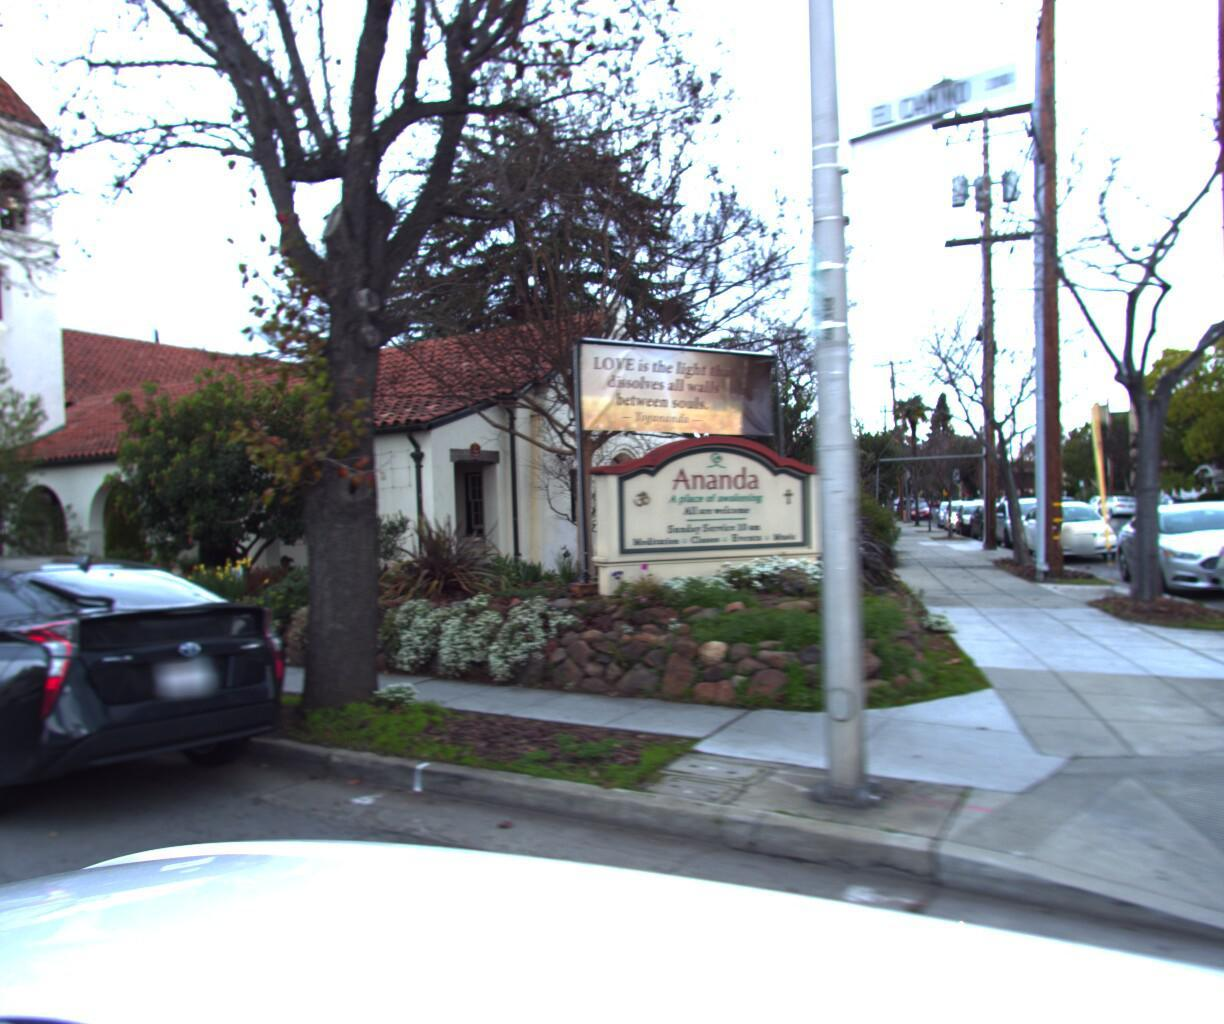car: (0, 544, 322, 883), (1104, 490, 1224, 605), (1009, 495, 1133, 565), (984, 491, 1080, 552), (1197, 484, 1224, 672), (968, 496, 1039, 540), (1142, 490, 1207, 520), (954, 498, 1007, 534), (947, 495, 988, 530), (1095, 492, 1145, 518), (1045, 494, 1080, 513), (911, 498, 936, 517)
